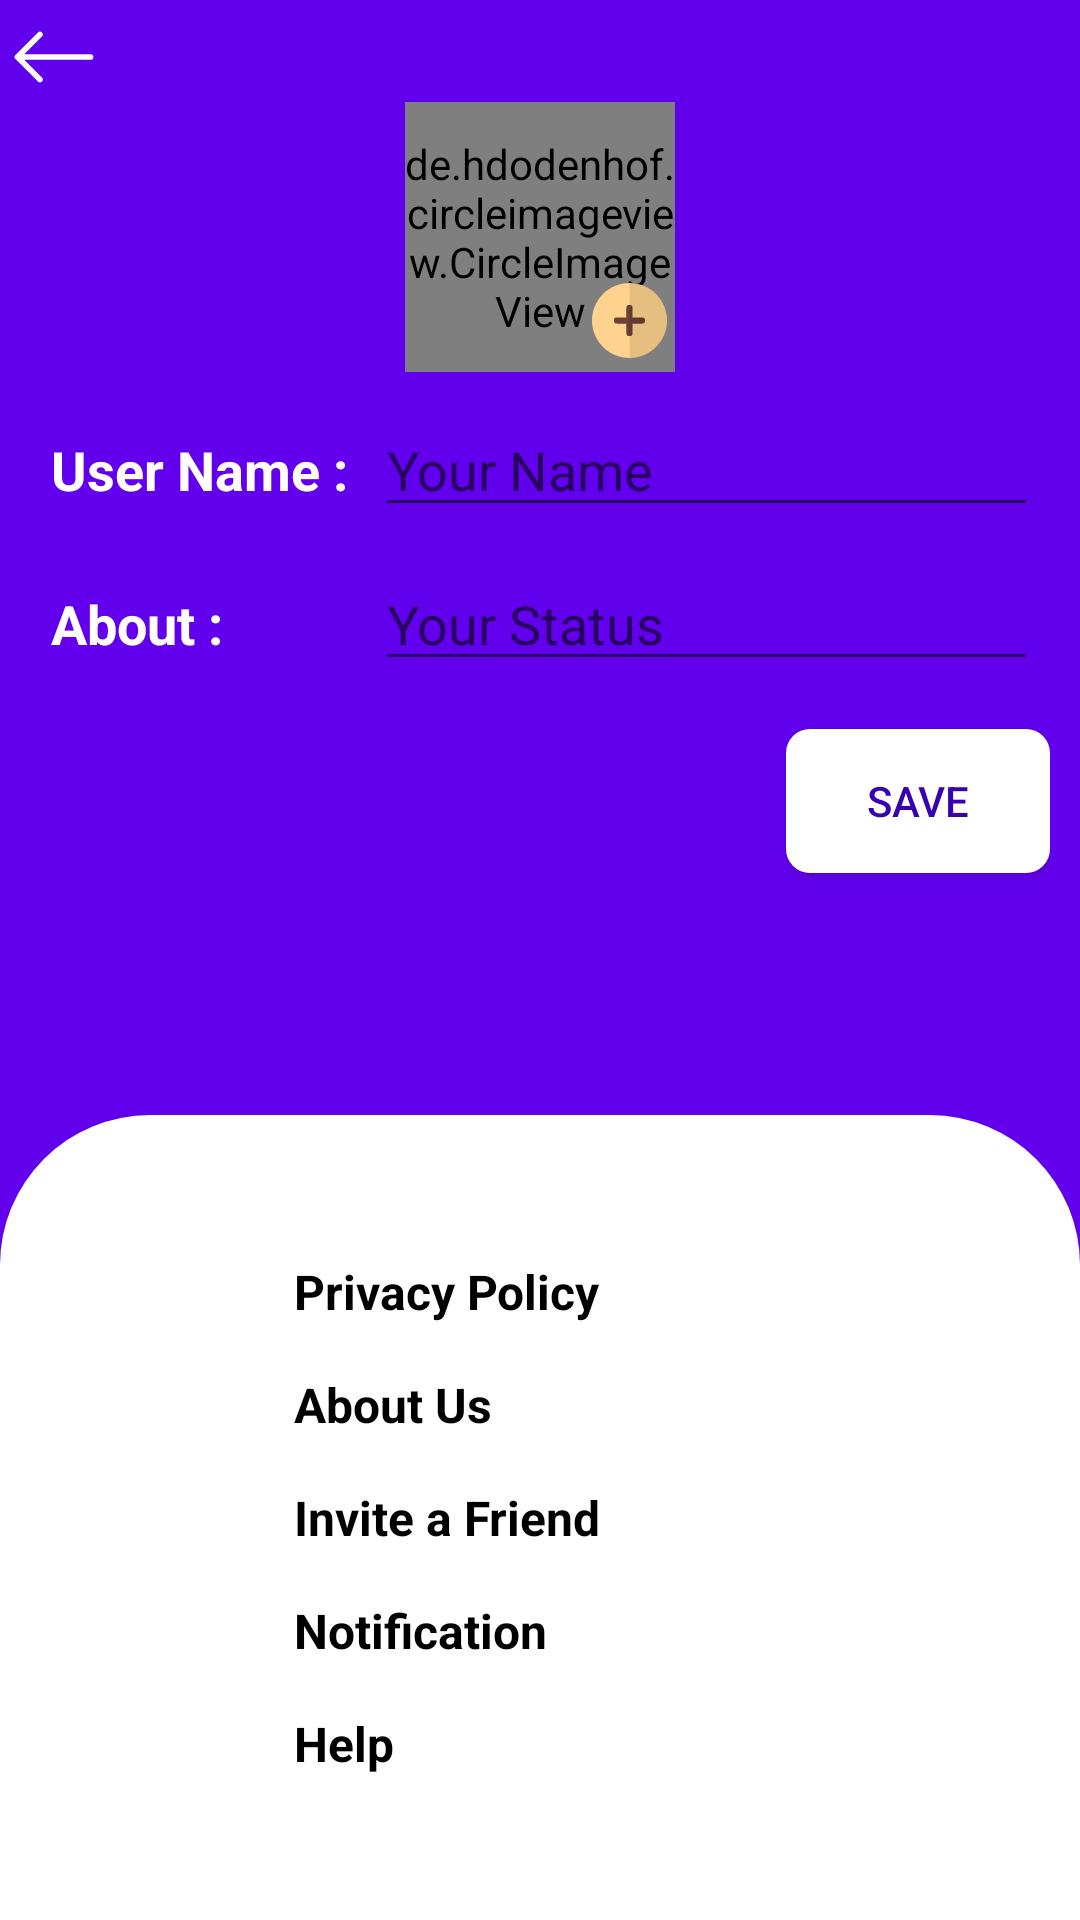

Named icons in this screenshot (1080px×1920px) and their centers, (x=x, y=y):
arrow left: (x=54, y=57)
circular add: (x=629, y=320)
